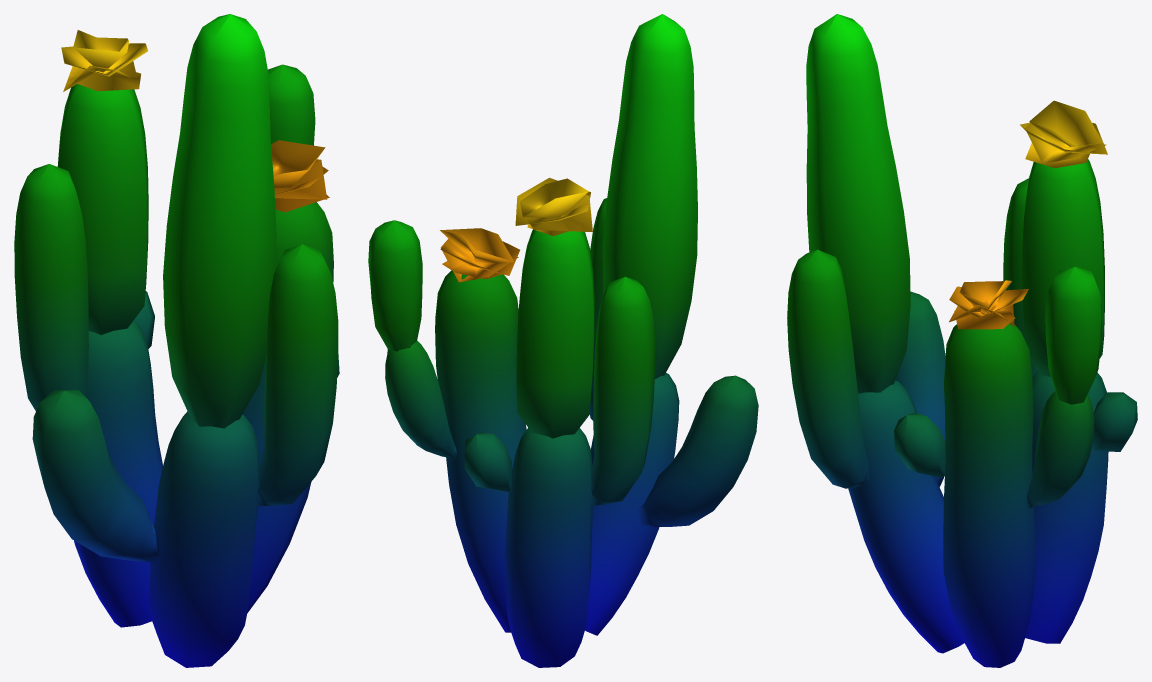
Rendered from Grocactus7.fbx.
3 views of the same model, side by side, from view 1: azimuth 30°, elevation 25°; view 2: azimuth 150°, elevation 25°; view 3: azimuth 270°, elevation 25° (orthographic). The views are drawn at different scales.
Visible parts, largest first — view 1: Grocactus7_LOD0; view 2: Grocactus7_LOD0; view 3: Grocactus7_LOD0.
Part boxes in pixels (left/top/right/bottom): Grocactus7_LOD0: left=14, top=14, right=339, bottom=667; Grocactus7_LOD0: left=368, top=14, right=758, bottom=667; Grocactus7_LOD0: left=787, top=14, right=1137, bottom=667.
Size of what is drawn, in the model's own units: 306 by 562 by 288.
